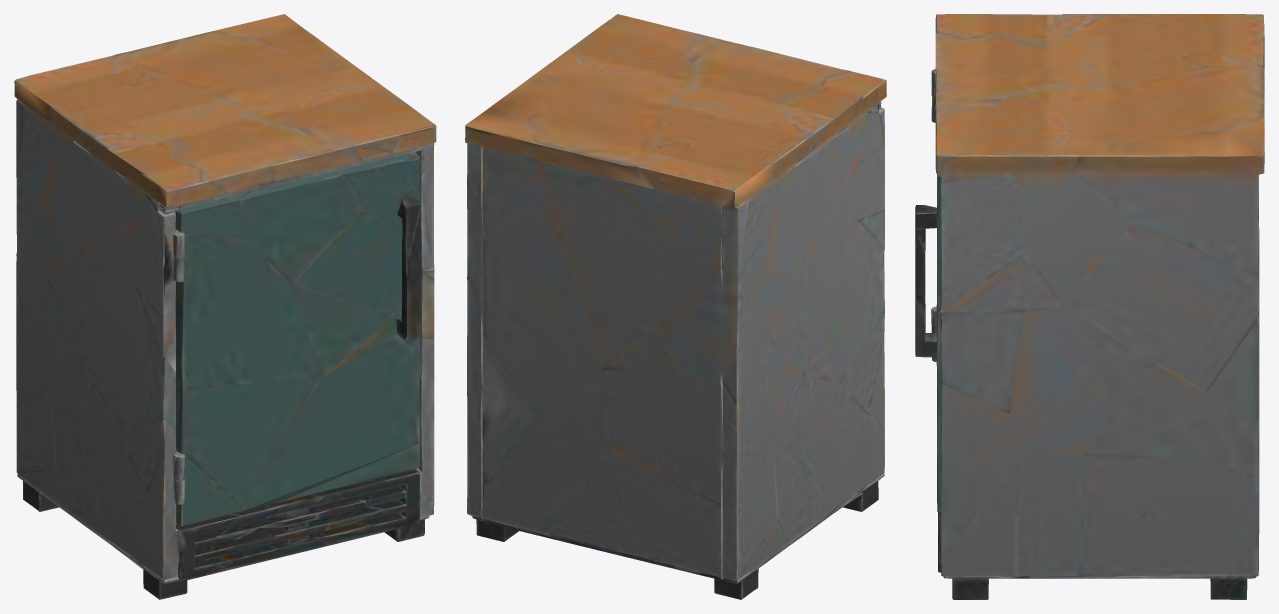
Rendered from snack_fridge.glb.
3 views of the same model, side by side, from view 1: azimuth 30°, elevation 25°; view 2: azimuth 150°, elevation 25°; view 3: azimuth 270°, elevation 25° (orthographic). The views are drawn at different scales.
Visible parts, largest first — view 1: Mesh_0; view 2: Mesh_0; view 3: Mesh_0.
Boxes of the visible parts, box(x1,y1,x2,y2) form: Mesh_0: box(14, 14, 436, 599); Mesh_0: box(465, 14, 886, 599); Mesh_0: box(915, 14, 1264, 599).
Bounding box in the file's own units: 0.4783 × 0.7004 × 0.4962.
1 material, 1 textured.
